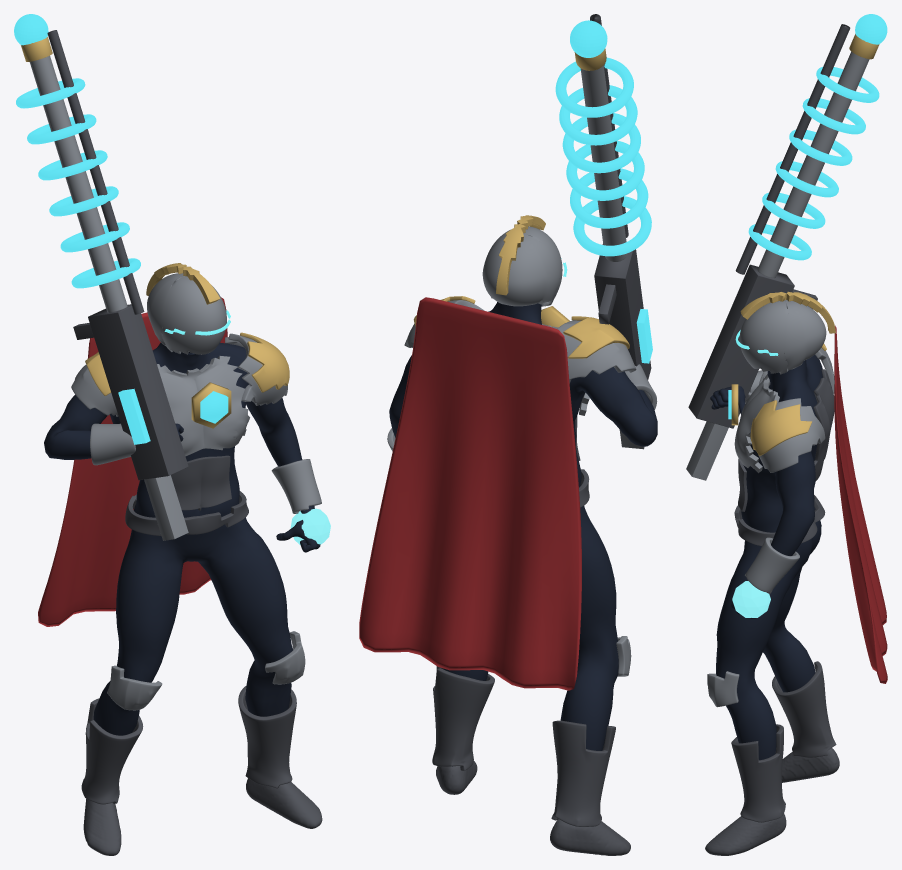
Rendered from hero.glb.
The picture shows the model from 3 angles, left to right: view 1: azimuth 30°, elevation 25°; view 2: azimuth 150°, elevation 25°; view 3: azimuth 270°, elevation 25°; orthographic projection. The views are drawn at different scales.
Parts seen in each view (by area): view 1: Hero_body, cape, Cube, chest, helmet, Cylinder.002, boot.L, boot.R, Cylinder.003, abs, Hero_shoe.L, belt (+21 smaller); view 2: cape, Hero_body, boot.R, boot.L, helmet, Cylinder.002, Cube, Hero_shoe.R, pauldron.R, Torus.005, Torus.004, Torus (+8 smaller); view 3: Hero_body, cape, Cube, helmet, Cylinder.002, boot.L, boot.R, Cylinder.003, pauldron2.L, Hero_shoe.L, pauldron.L, chest (+17 smaller).
Part boxes in pixels (<box>): Hero_body: <box>44,342,320,735</box>; cape: <box>38,297,227,626</box>; Cube: <box>88,304,188,480</box>; chest: <box>157,356,249,456</box>; helmet: <box>147,273,226,354</box>; Cylinder.002: <box>29,55,127,312</box>; boot.L: <box>238,686,296,788</box>; boot.R: <box>81,698,143,804</box>; Cylinder.003: <box>47,30,144,314</box>; abs: <box>171,455,231,510</box>; Hero_shoe.L: <box>246,778,322,828</box>; belt: <box>125,491,248,536</box>; cape: <box>359,297,581,690</box>; Hero_body: <box>389,302,657,766</box>; boot.R: <box>551,720,615,826</box>; boot.L: <box>432,666,494,770</box>; helmet: <box>482,226,562,306</box>; Cylinder.002: <box>580,65,627,261</box>; Cube: <box>594,244,651,379</box>; Hero_shoe.R: <box>550,819,630,855</box>; pauldron.R: <box>557,320,636,383</box>; Torus.005: <box>555,57,633,117</box>; Torus.004: <box>559,85,637,145</box>; Torus: <box>573,196,651,256</box>; Hero_body: <box>710,354,822,760</box>; cape: <box>834,325,887,683</box>; Cube: <box>688,264,794,428</box>; helmet: <box>739,299,826,374</box>; Cylinder.002: <box>757,51,869,277</box>; boot.L: <box>731,724,785,822</box>; boot.R: <box>772,661,836,757</box>; Cylinder.003: <box>735,24,850,274</box>; pauldron2.L: <box>750,400,812,455</box>; Hero_shoe.L: <box>705,813,786,855</box>; pauldron.L: <box>749,398,825,472</box>; chest: <box>734,374,779,472</box>.
Size of the model in its own units: 0.8568 by 2.57 by 0.6218.
